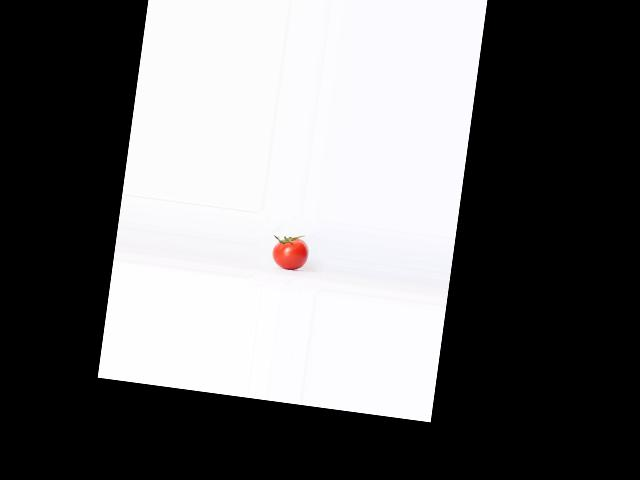tomato: (271, 235, 311, 271)
